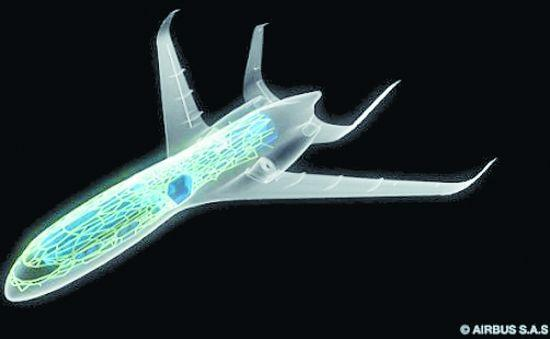airplane: (3, 14, 501, 307)
